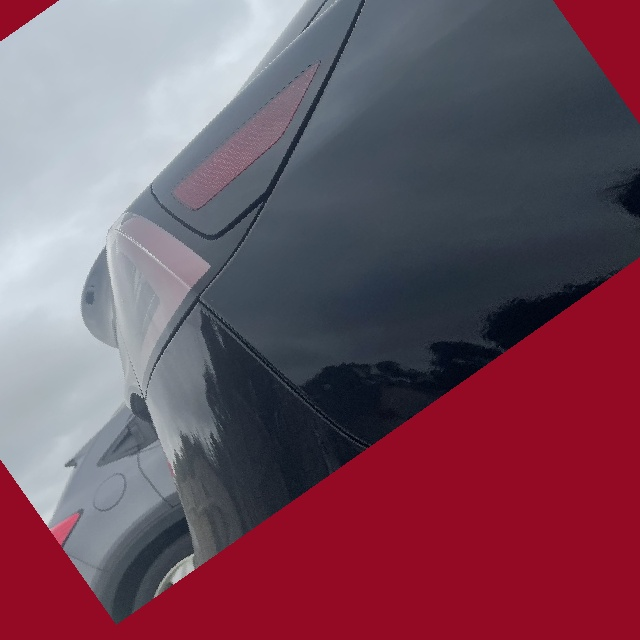reflector: (155, 59, 349, 217)
